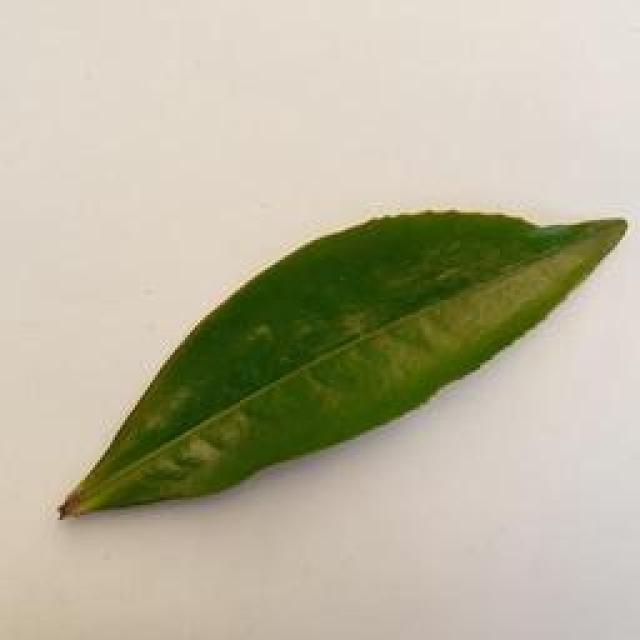Healthy: (52, 205, 618, 515)
